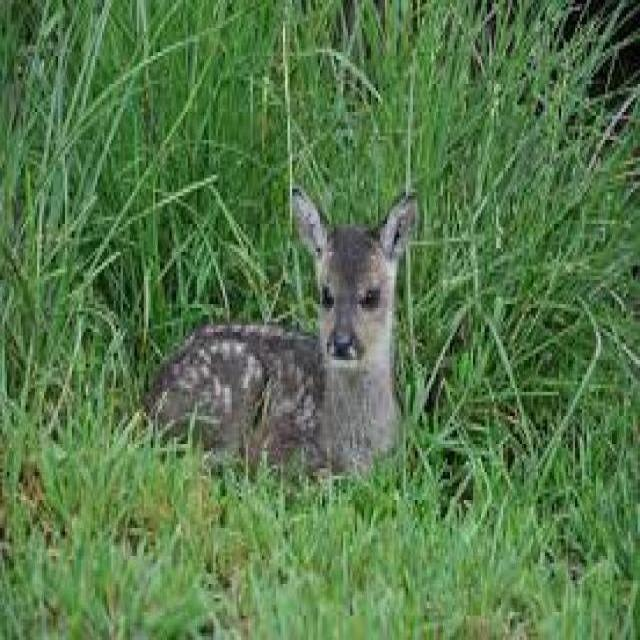deer: (140, 186, 438, 474)
